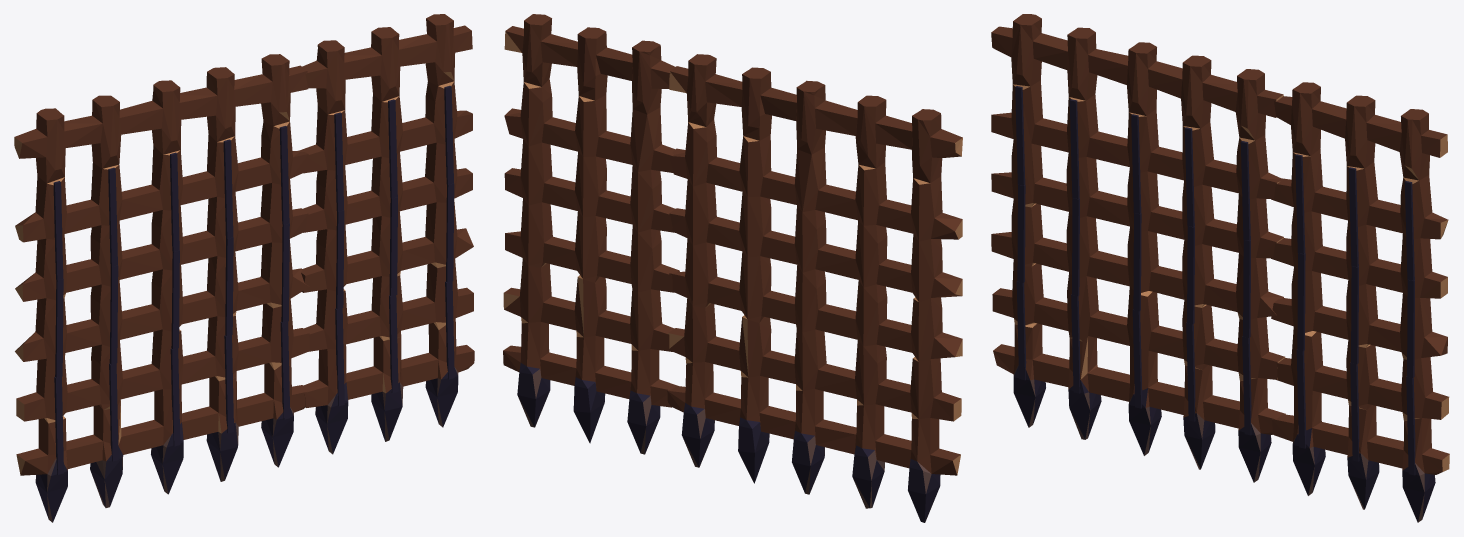
The model's file is MCastle_Gates_02.FBX.
3 views of the same model, side by side, from view 1: azimuth 30°, elevation 25°; view 2: azimuth 150°, elevation 25°; view 3: azimuth 330°, elevation 25° (orthographic).
Parts seen in each view (by area): view 1: MCastle_Gates_02_LOD0; view 2: MCastle_Gates_02_LOD0; view 3: MCastle_Gates_02_LOD0.
Boxes of the visible parts, x1,y1,x2,y2 form: MCastle_Gates_02_LOD0: [14, 14, 474, 522]; MCastle_Gates_02_LOD0: [503, 14, 962, 522]; MCastle_Gates_02_LOD0: [991, 14, 1449, 522].
Size of what is drawn, in the model's own units: 4.95 by 4.28 by 0.319.
